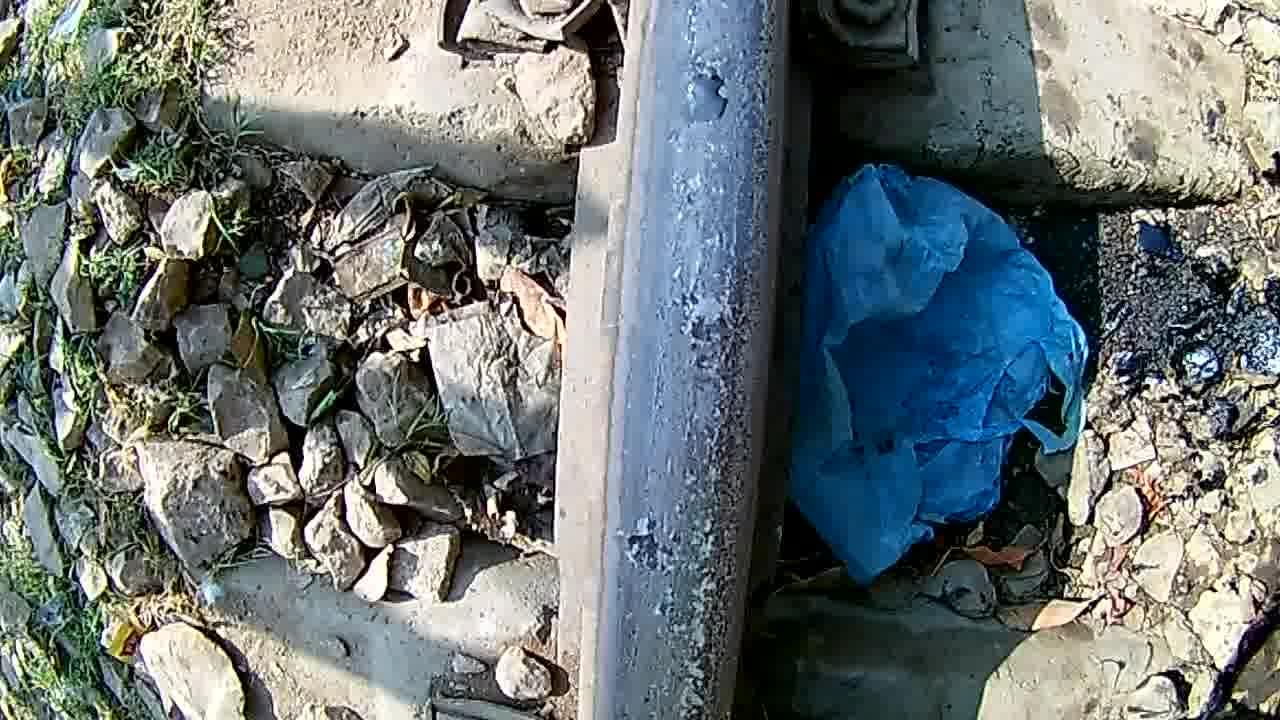crack: (625, 0, 779, 720)
